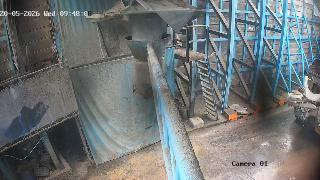cement_mixer_truck: (289, 54, 320, 135)
swing_chute: (125, 35, 171, 98)
